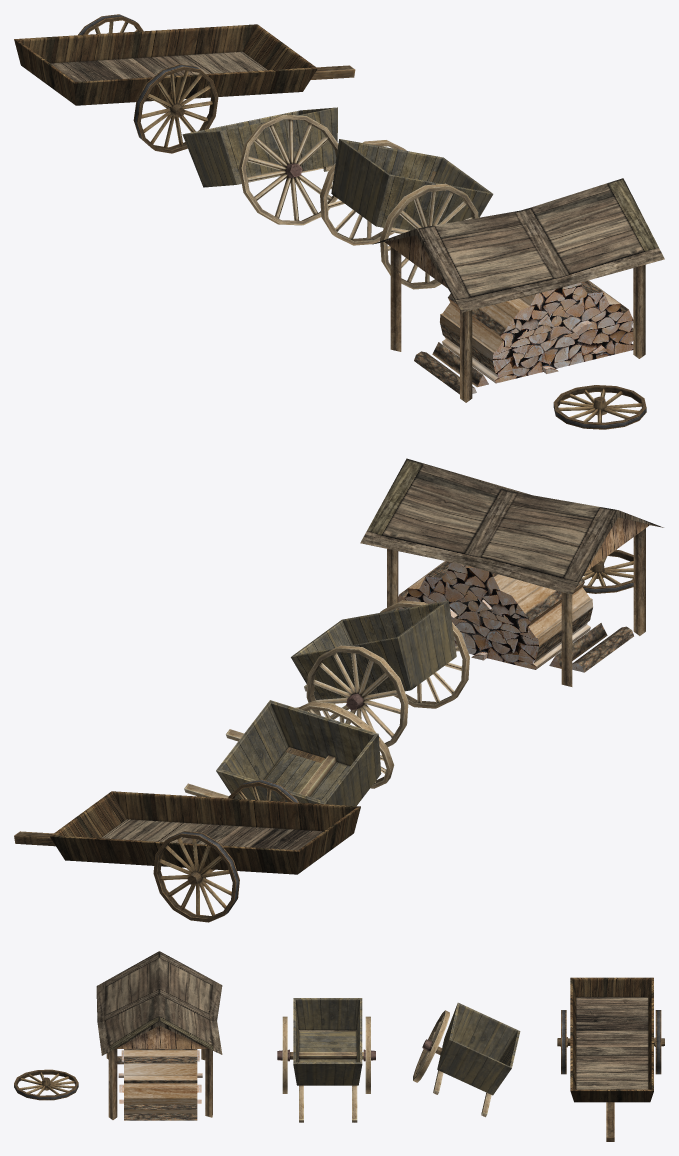
File: barrows.FBX
The picture shows the model from 3 angles, top to bottom: view 1: azimuth 30°, elevation 25°; view 2: azimuth 150°, elevation 25°; view 3: azimuth 270°, elevation 25°; orthographic projection. The views are drawn at different scales.
Visible parts, largest first — view 1: prop_smallporch, prop_barrow1, prop_logs, prop_barrow2, prop_barrow3, prop_barrowwheel, prop_log2, prop_log1; view 2: prop_smallporch, prop_barrow1, prop_barrow2, prop_barrow3, prop_logs, prop_barrowwheel, prop_log2, prop_log1; view 3: prop_barrow1, prop_smallporch, prop_barrow2, prop_barrow3, prop_logs, prop_barrowwheel.
Boxes of the visible parts, box(x1,y1,x2,y2) form: prop_smallporch: box(372, 178, 664, 402); prop_barrow1: box(14, 14, 355, 153); prop_logs: box(440, 280, 633, 383); prop_barrow2: box(320, 139, 493, 289); prop_barrow3: box(182, 107, 338, 225); prop_barrowwheel: box(553, 385, 646, 429); prop_log2: box(414, 351, 476, 394); prop_log1: box(432, 342, 488, 387); prop_smallporch: box(360, 458, 663, 686); prop_barrow1: box(14, 779, 360, 922); prop_barrow2: box(291, 600, 469, 746); prop_barrow3: box(184, 700, 394, 805); prop_logs: box(398, 561, 592, 669); prop_barrowwheel: box(582, 549, 633, 593); prop_log2: box(572, 626, 633, 672); prop_log1: box(549, 623, 607, 668); prop_barrow1: box(557, 977, 664, 1141); prop_smallporch: box(96, 951, 222, 1119); prop_barrow2: box(277, 998, 375, 1122); prop_barrow3: box(413, 1002, 520, 1117); prop_logs: box(118, 1049, 202, 1120); prop_barrowwheel: box(14, 1069, 78, 1100).
Size of the model in its own units: 1669 by 783 by 4426.
